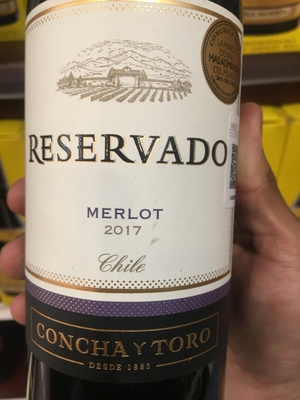reservado merlot: (24, 6, 247, 400)
